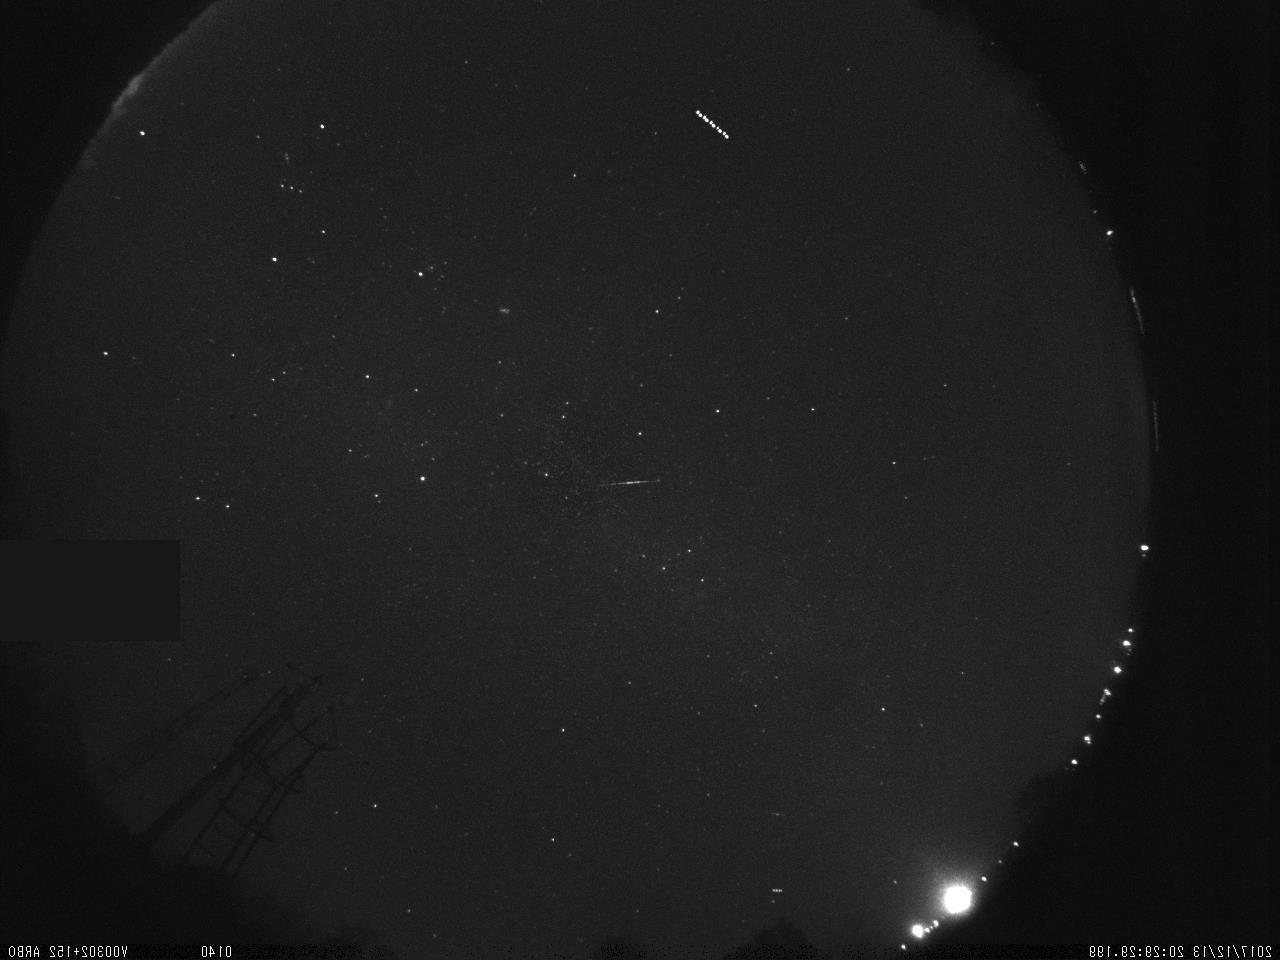meteor: (592, 466, 664, 495)
satelite: (689, 101, 737, 147)
